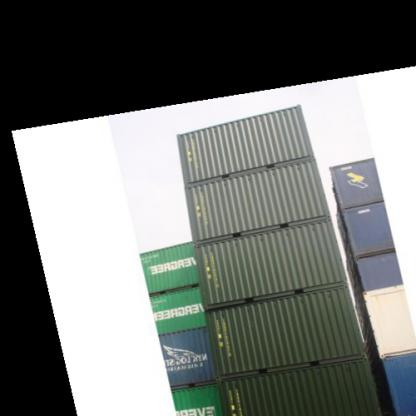Damage: (292, 289, 339, 305), (258, 233, 267, 251), (197, 180, 202, 201)
